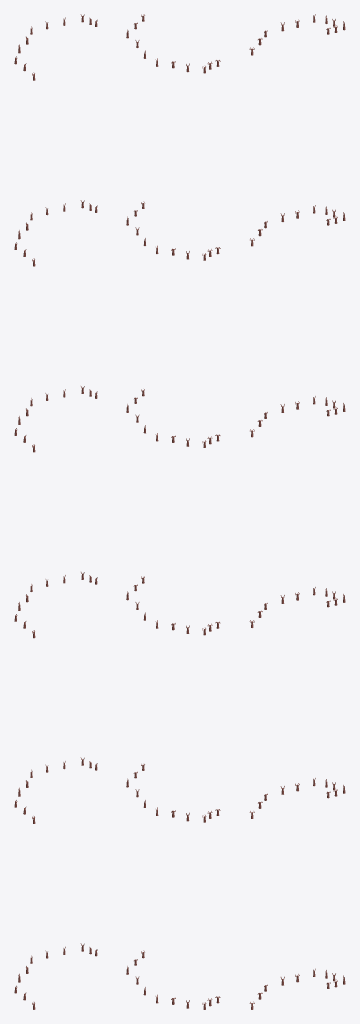
File: Circle5Crowd2.obj
The picture shows the model from 3 angles, left to right: view 1: azimuth 30°, elevation 25°; view 2: azimuth 150°, elevation 25°; view 3: azimuth 330°, elevation 25°; orthographic projection. The views are drawn at different scales.
Parts seen in each view (by area): view 1: Circle5Crowd2; view 2: Circle5Crowd2; view 3: Circle5Crowd2.
Boxes of the visible parts, <box> form: Circle5Crowd2: <box>14,14,97,1009</box>; Circle5Crowd2: <box>126,14,220,1009</box>; Circle5Crowd2: <box>249,14,345,1009</box>.
Bounding box in the file's own units: 27.08 × 339 × 20.96.
1 material, 1 textured.
